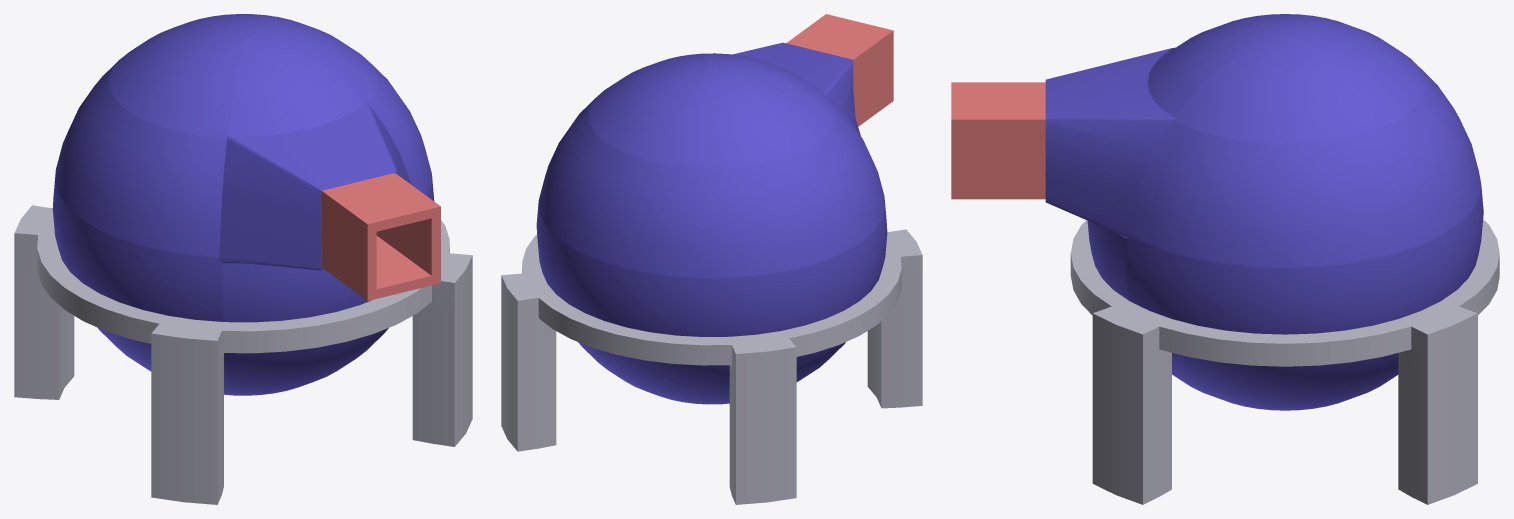
Rendered from ball-turret.fbx.
The picture shows the model from 3 angles, left to right: view 1: azimuth 30°, elevation 25°; view 2: azimuth 150°, elevation 25°; view 3: azimuth 270°, elevation 25°; orthographic projection. The views are drawn at different scales.
Parts seen in each view (by area): view 1: turret_body, turret_ring_stand, turret_cannon; view 2: turret_body, turret_ring_stand, turret_cannon; view 3: turret_body, turret_ring_stand, turret_cannon.
Boxes of the visible parts, x1,y1,x2,y2 form: turret_body: (52,14,434,395); turret_ring_stand: (14,205,472,504); turret_cannon: (321,173,440,300); turret_body: (536,42,887,404); turret_ring_stand: (501,229,922,504); turret_cannon: (786,14,893,126); turret_body: (1045,14,1483,410); turret_ring_stand: (1070,219,1499,504); turret_cannon: (951,82,1045,199).
Bounding box in the file's own units: 1.56 × 1.57 × 2.
